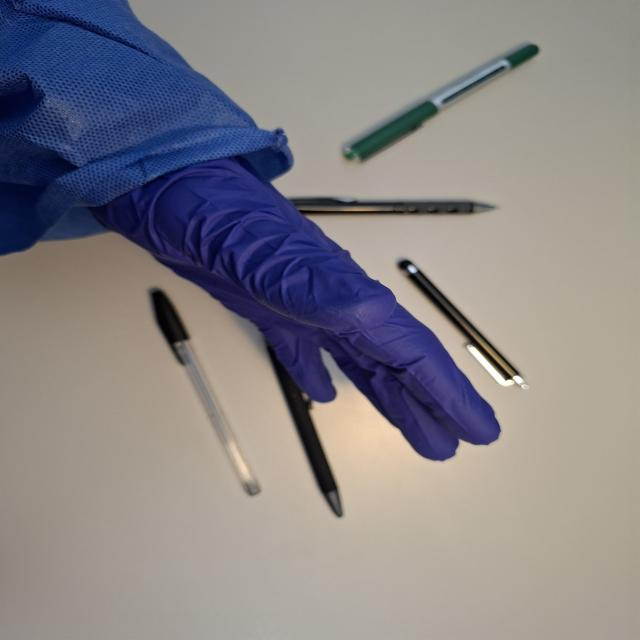glove_on: (79, 126, 506, 465)
